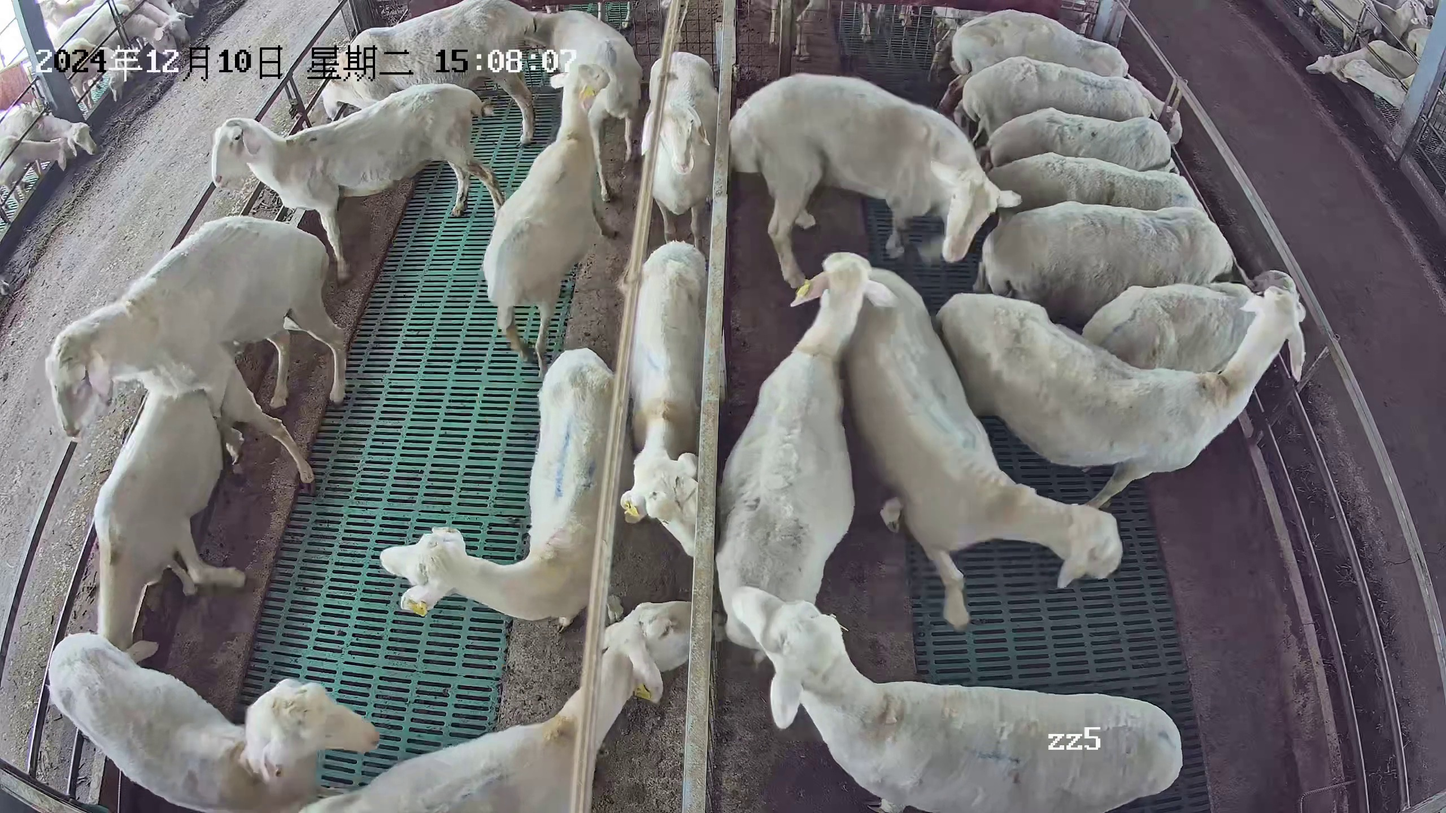Smounting: (42, 213, 352, 666)
mounted: (90, 343, 316, 662)
